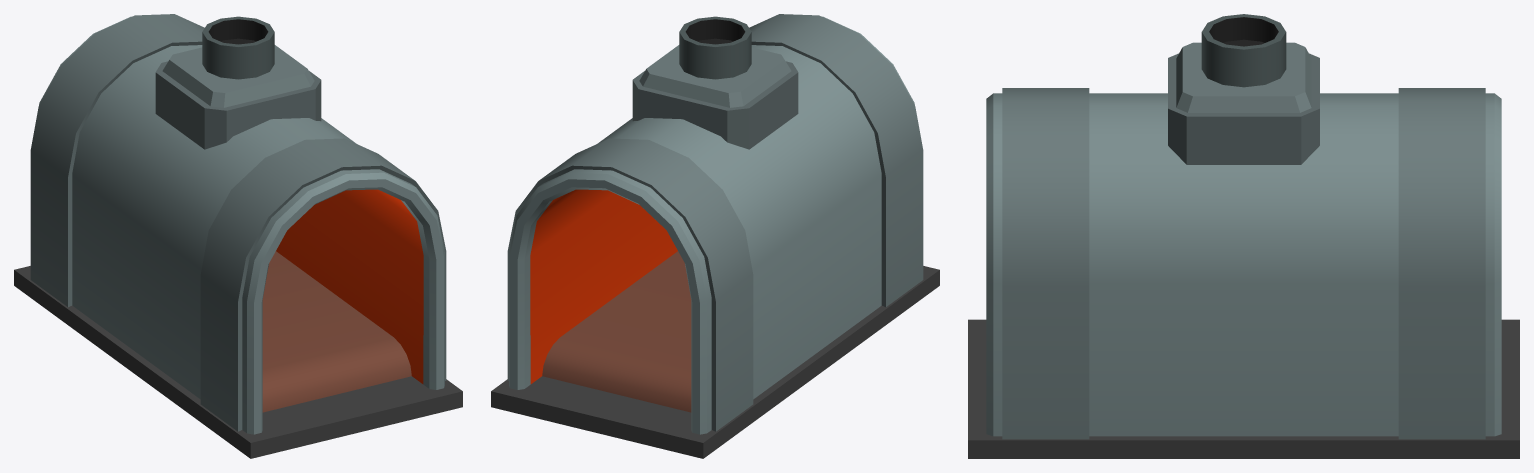
The model's file is mech_3.fbx.
3 renders of one model, left to right at view 1: azimuth 30°, elevation 25°; view 2: azimuth 150°, elevation 25°; view 3: azimuth 270°, elevation 25°, orthographic. The views are drawn at different scales.
Parts seen in each view (by area): view 1: mech_3_lv1; view 2: mech_3_lv1; view 3: mech_3_lv1.
Boxes of the visible parts, bbox=[...] form: mech_3_lv1: bbox=[14, 14, 462, 458]; mech_3_lv1: bbox=[491, 14, 939, 458]; mech_3_lv1: bbox=[968, 14, 1519, 458].
Bounding box in the file's own units: 67.74 × 95.97 × 131.
